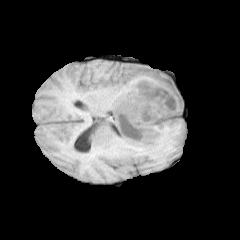glioma: (94, 69, 182, 160)
